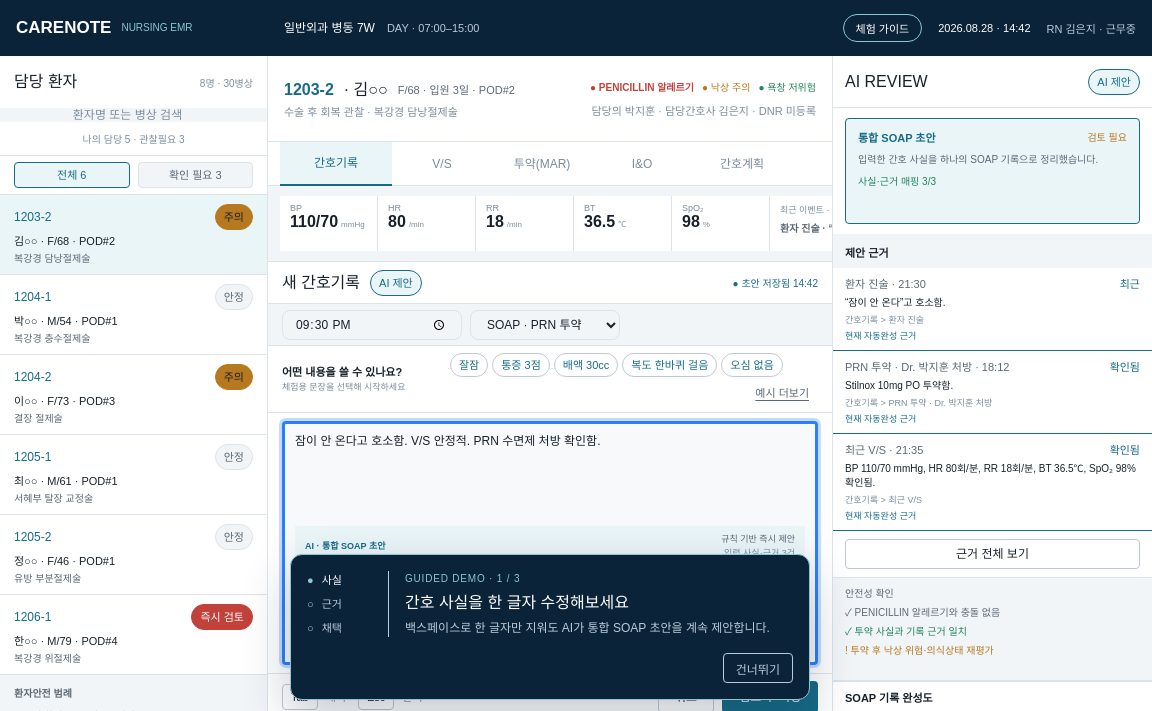
Test: ChartingWorkspace › lets a visitor apply a supported nursing example and continue editing
Expected: the text "어떤 내용을 쓸 수 있나요?" is shown, [282, 366, 402, 378]
Expected: the text "체험용 문장을 선택해 시작하세요" is shown, [282, 382, 405, 392]
What coordinates should you click on to do the following:
click the button with aria-label "통증 3점 입력"
I would click on:
 (521, 365)
Its box is [492, 353, 550, 377].
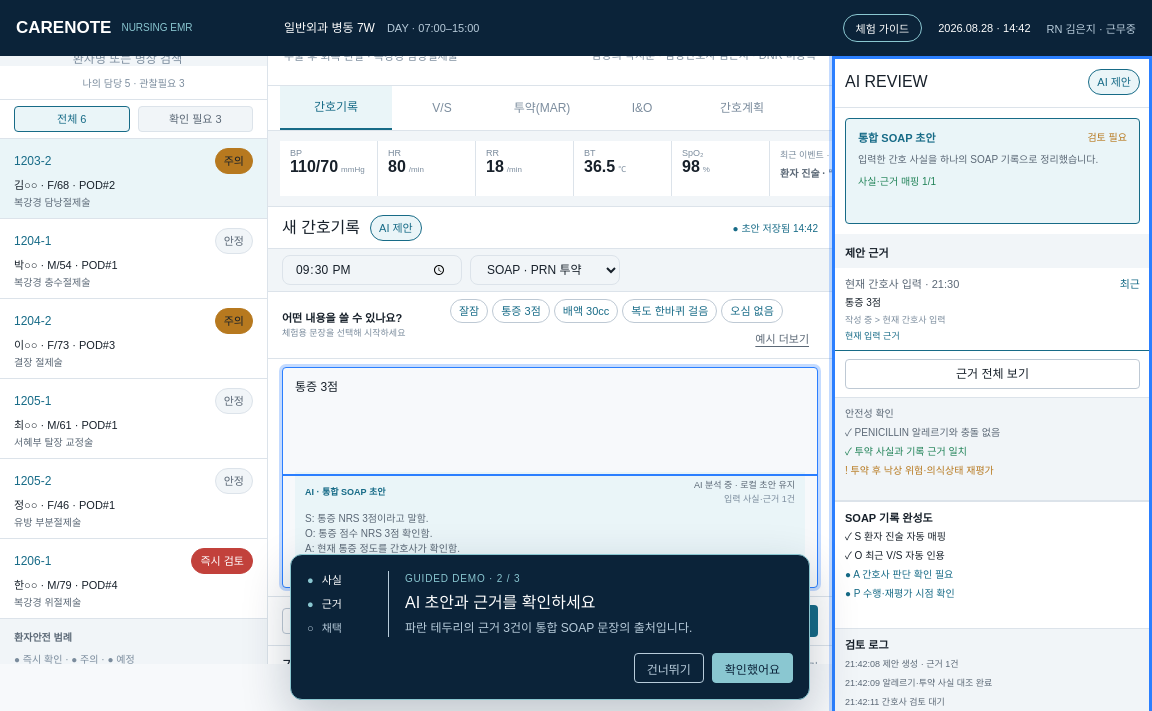
Now the text box named "간호 사실 입력" holds "통증 3점", box [283, 368, 817, 472]
Now the element named "활성 통합 SOAP 제안" shows "S: 통증 NRS 3점이라고 말함.", box [305, 513, 481, 569]
